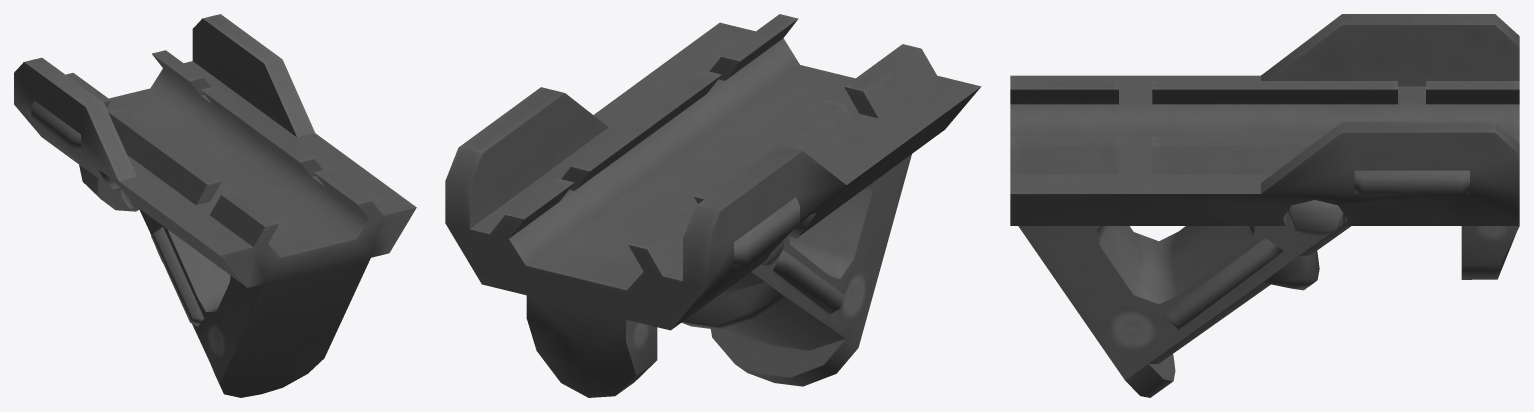
File: IG_Acc_Grip_ALL_REC_5.fbx
The picture shows the model from 3 angles, left to right: view 1: azimuth 30°, elevation 25°; view 2: azimuth 150°, elevation 25°; view 3: azimuth 270°, elevation 25°; orthographic projection. The views are drawn at different scales.
Parts seen in each view (by area): view 1: Acc_Grip_ALL_REC_5; view 2: Acc_Grip_ALL_REC_5; view 3: Acc_Grip_ALL_REC_5.
Part boxes in pixels (box(x1,y1,x2,y2)): Acc_Grip_ALL_REC_5: box(14, 14, 416, 397); Acc_Grip_ALL_REC_5: box(445, 14, 981, 397); Acc_Grip_ALL_REC_5: box(1010, 14, 1519, 397).
Bounding box in the file's own units: 0.1274 × 0.1479 × 0.217.
